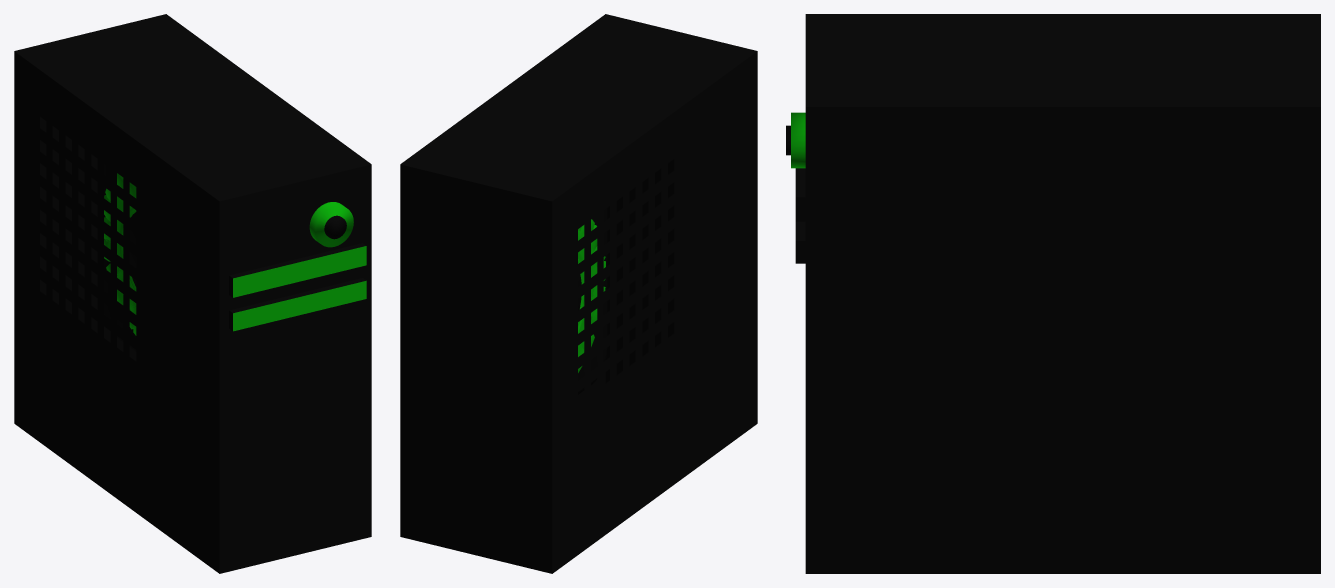
File: Блок.fbx
3 renders of one model, left to right at view 1: azimuth 30°, elevation 25°; view 2: azimuth 150°, elevation 25°; view 3: azimuth 270°, elevation 25°, orthographic. The views are drawn at different scales.
Visible parts, largest first — view 1: Cube; view 2: Cube; view 3: Cube.
Part boxes in pixels (x1,y1,x2,y2): Cube: [14, 14, 371, 573]; Cube: [400, 14, 757, 573]; Cube: [786, 14, 1320, 573].
Size of the model in its own units: 85.48 by 200 by 208.
